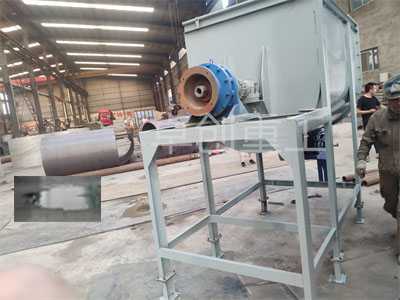oil: (15, 178, 102, 219), (123, 197, 168, 222)
